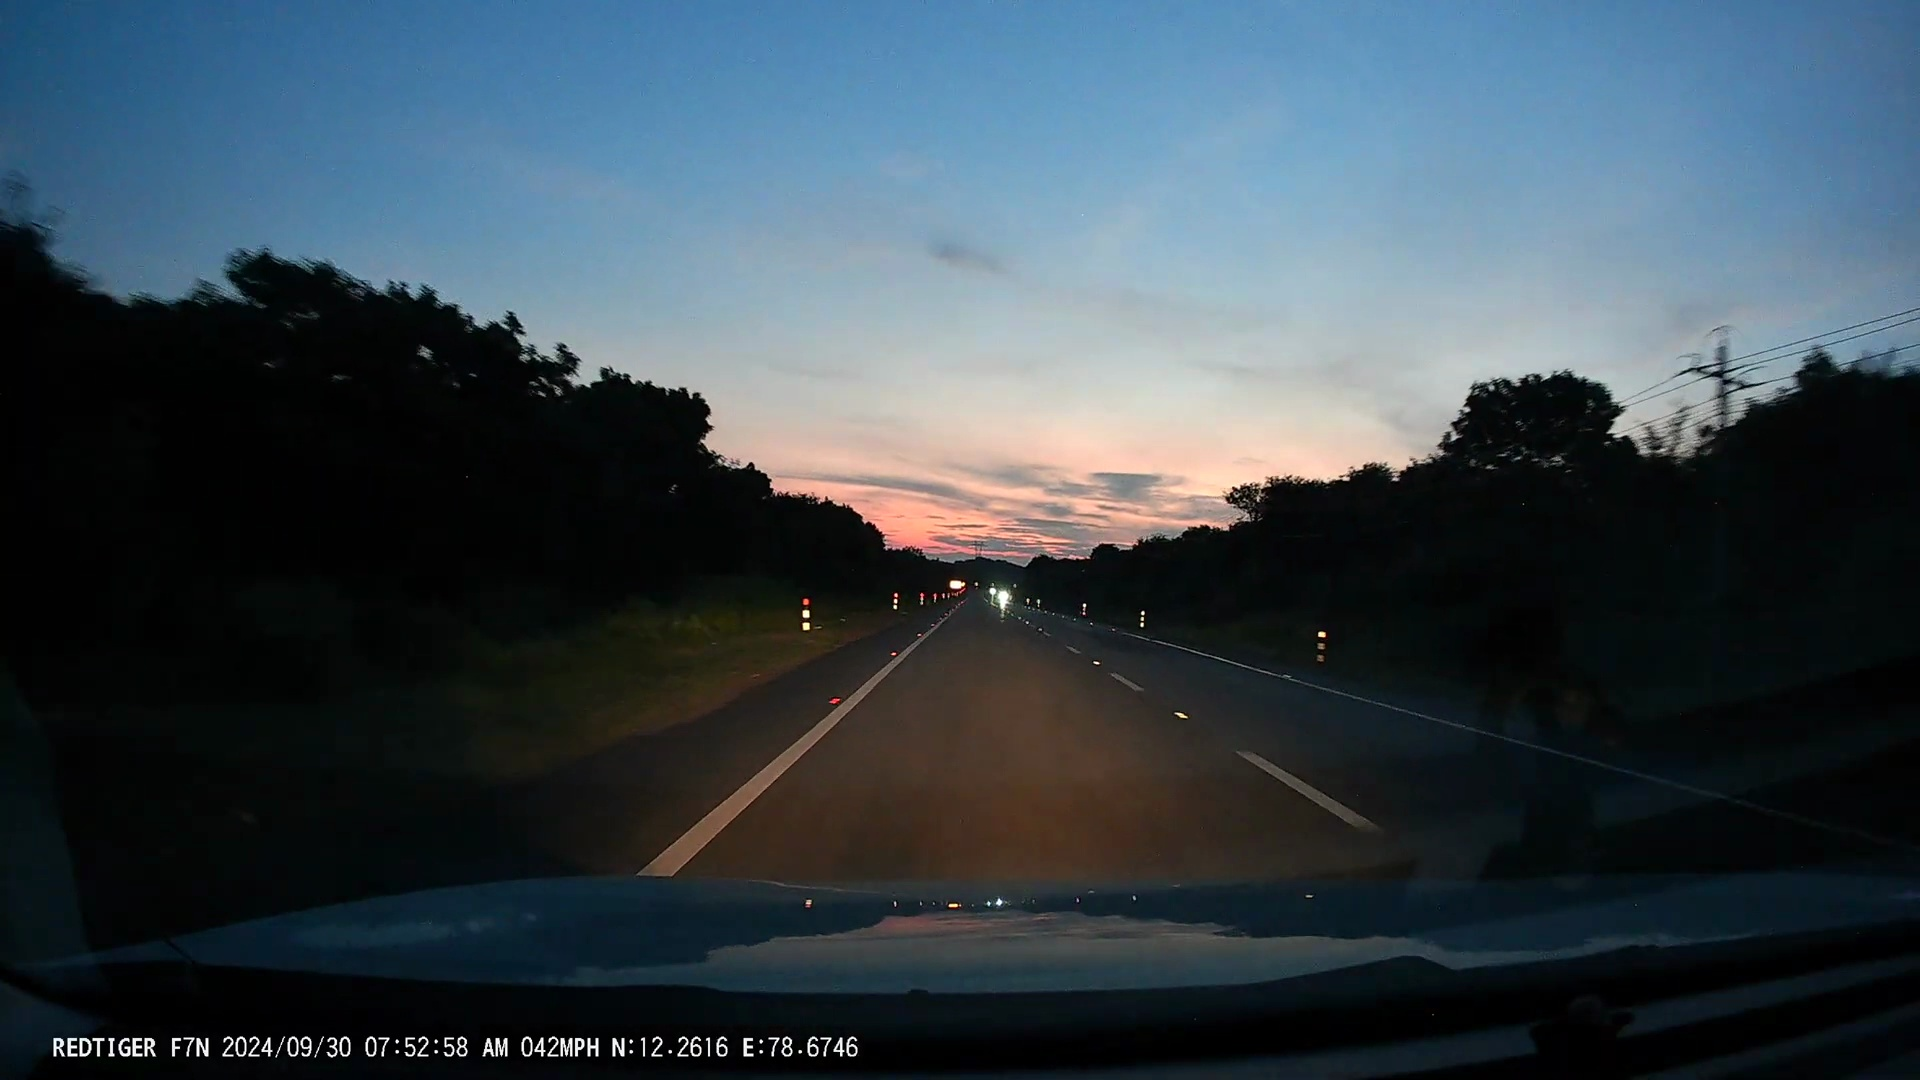headlight: (1000, 589, 1009, 605), (989, 584, 996, 599)
two wheeler: (981, 587, 1015, 605)
